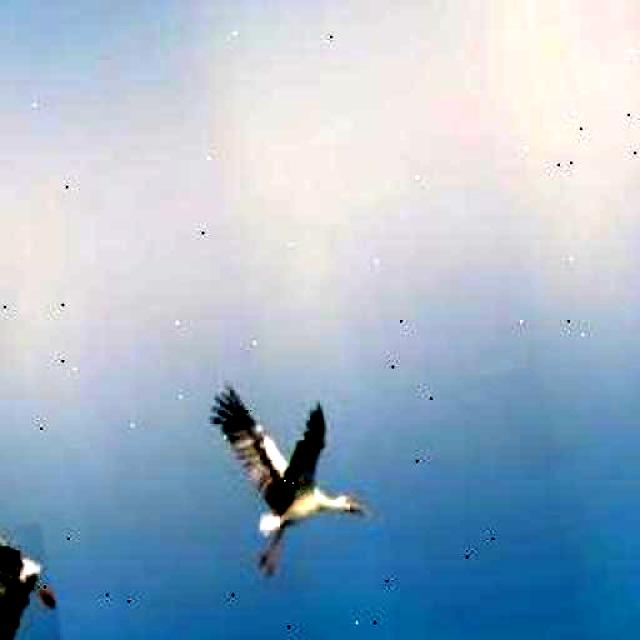airplane: (202, 361, 381, 588), (0, 521, 69, 640)
